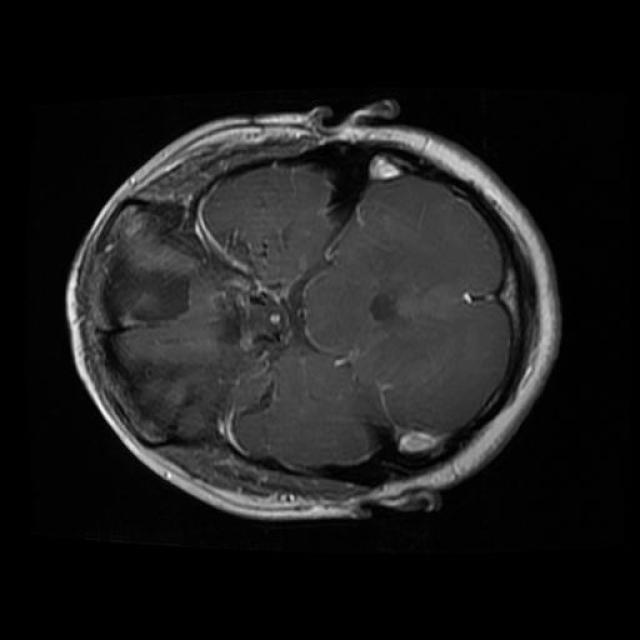Glioma: (98, 226, 195, 330)
